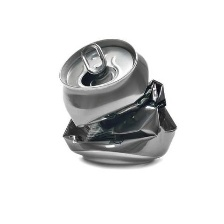can: (52, 36, 180, 171)
